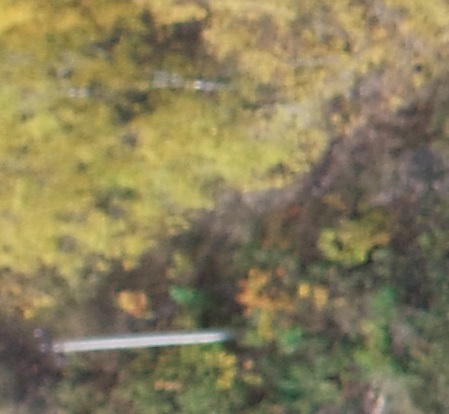opora: (31, 314, 238, 370)
